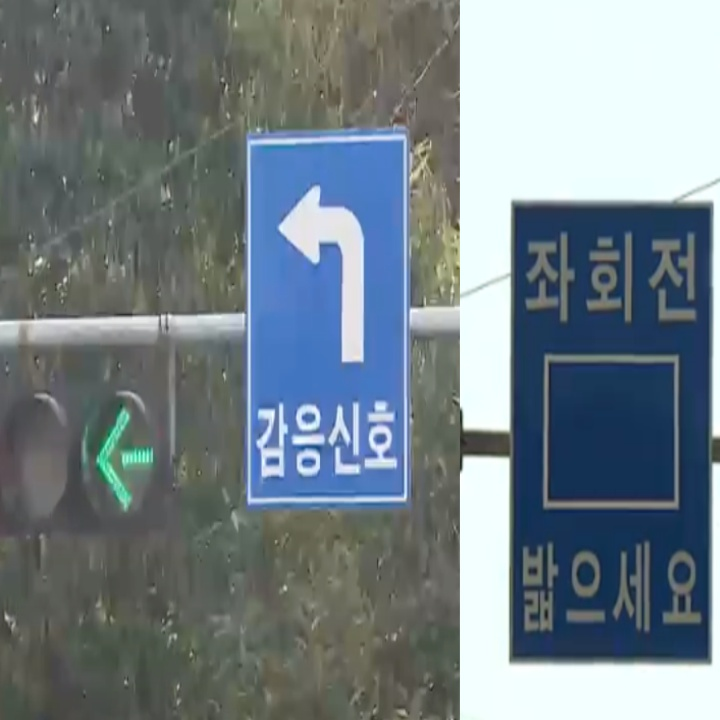left: (268, 170, 384, 374)
